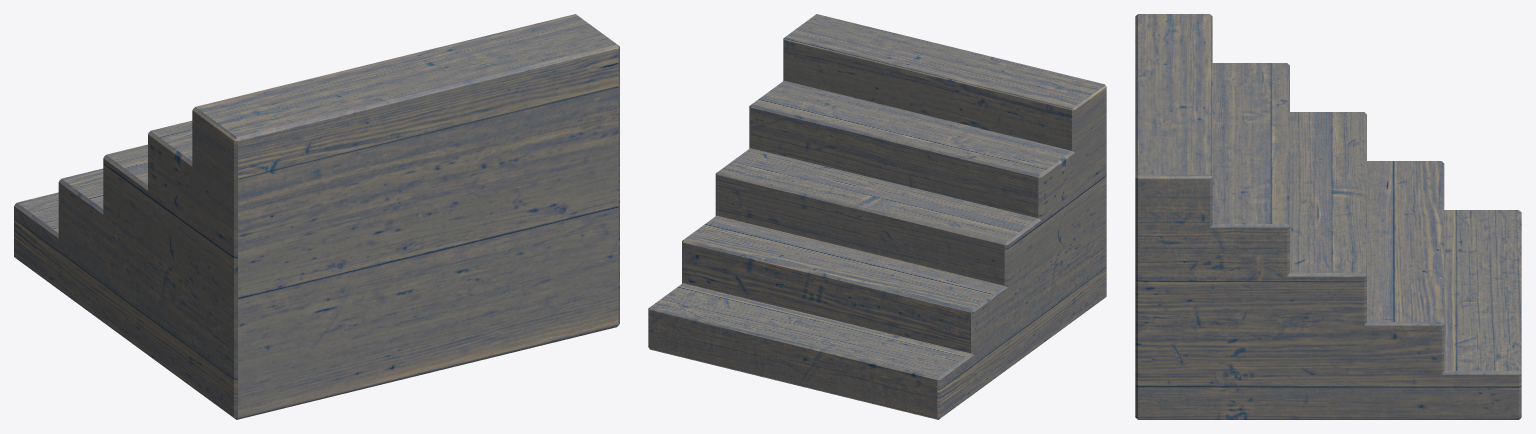
Rendered from CY_Stair_AP.fbx.
3 renders of one model, left to right at view 1: azimuth 30°, elevation 25°; view 2: azimuth 150°, elevation 25°; view 3: azimuth 270°, elevation 25°, orthographic. The views are drawn at different scales.
Parts seen in each view (by area): view 1: pCube11; view 2: pCube11; view 3: pCube11.
Part boxes in pixels (left/top/right/bottom): pCube11: left=14, top=14, right=619, bottom=419; pCube11: left=648, top=14, right=1106, bottom=419; pCube11: left=1135, top=14, right=1521, bottom=419.
Size of the model in its own units: 250 by 175 by 250.
Materials: 1 (1 with a texture image).
